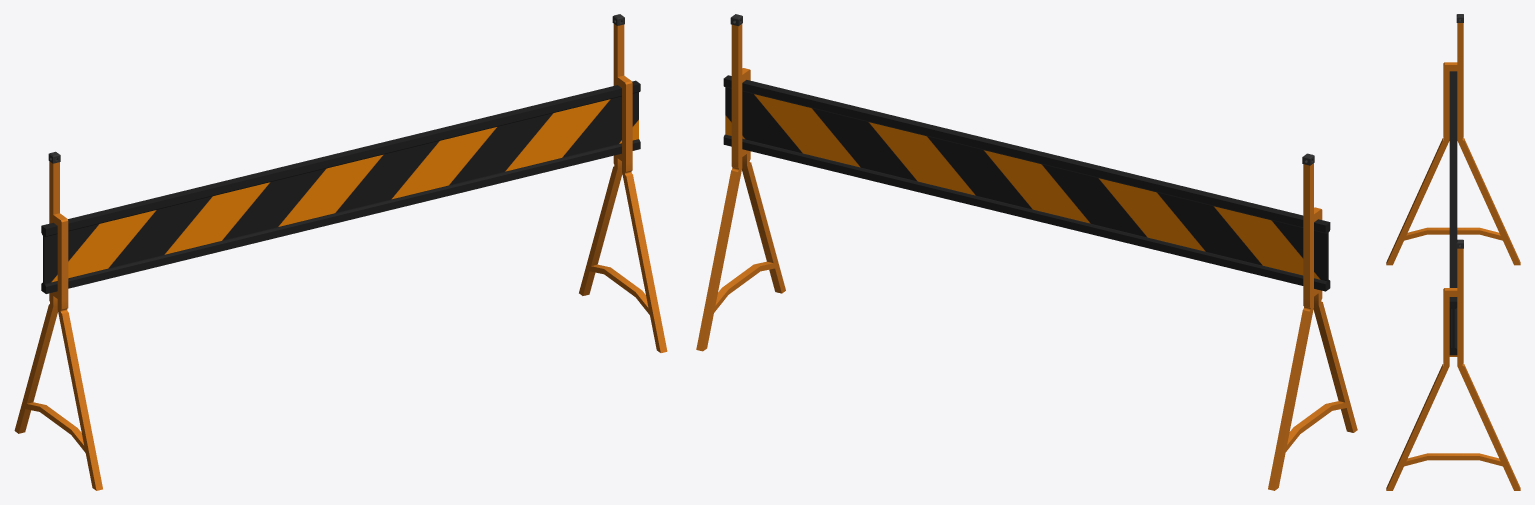
3 renders of one model, left to right at view 1: azimuth 30°, elevation 25°; view 2: azimuth 150°, elevation 25°; view 3: azimuth 270°, elevation 25°, orthographic. The views are drawn at different scales.
Visible parts, largest first — view 1: Box001_stripes_0, Box001_horisontal bar_0, Line001_Material #38_0; view 2: Box001_stripes_0, Box001_horisontal bar_0, Line001_Material #38_0; view 3: Line001_Material #38_0, Box001_horisontal bar_0.
Part boxes in pixels (x1,y1,x2,y2): Box001_stripes_0: [44, 92, 638, 283]; Box001_horisontal bar_0: [41, 80, 640, 293]; Line001_Material #38_0: [14, 24, 667, 490]; Box001_stripes_0: [725, 87, 1327, 281]; Box001_horisontal bar_0: [723, 75, 1330, 291]; Line001_Material #38_0: [696, 24, 1357, 490]; Line001_Material #38_0: [1386, 23, 1520, 490]; Box001_horisontal bar_0: [1449, 71, 1457, 355].
Bounding box in the file's own units: 4.54 × 2.21 × 1.09.
4 materials, 3 textured.
